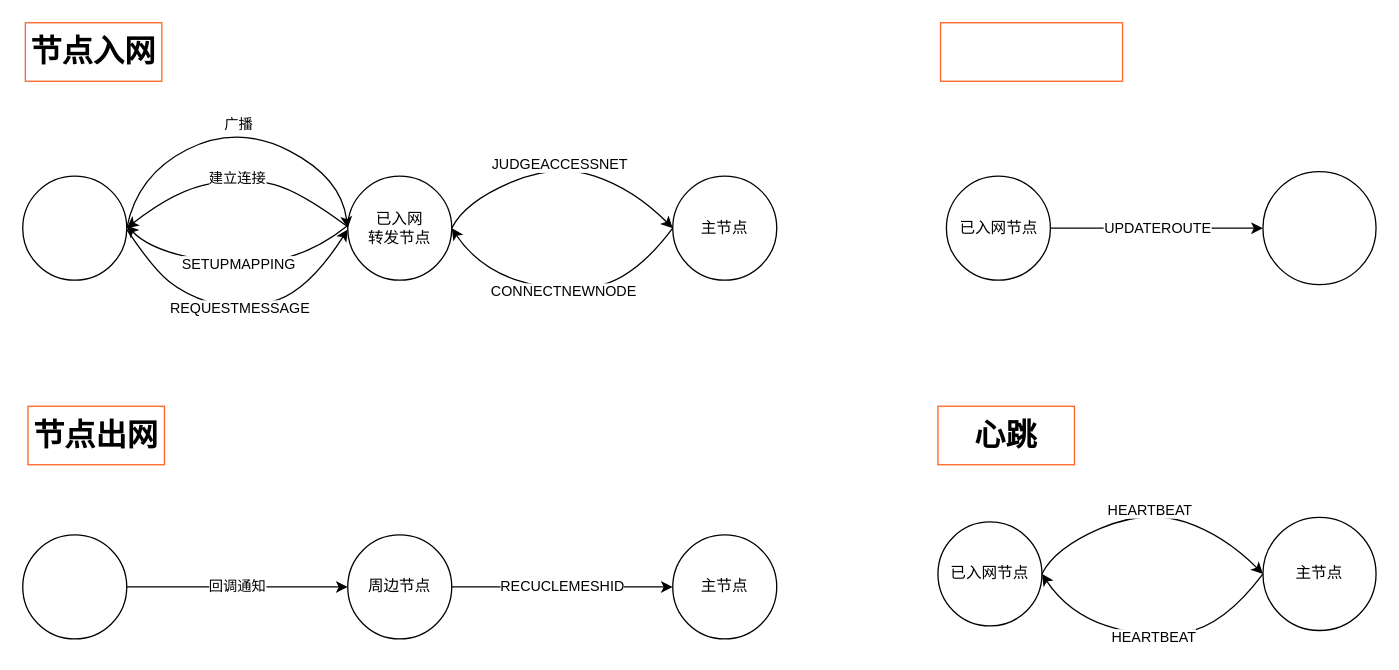
Some shapes in this 1399 by 670 pixel diagram are drawn without their labels. The centre of each missing label's shape, as x and y in pixels:
"RIP更新路由" goes at point (1031, 51).
"已入网周边节点" goes at point (1319, 227).
"断开节点" goes at point (74, 586).
"新节点" goes at point (74, 227).
